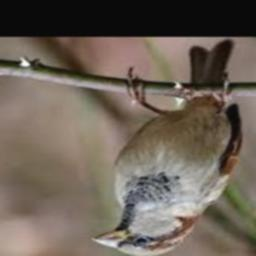Sparrow: (92, 40, 241, 256)
